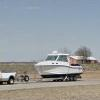Boat: (33, 43, 92, 84)
